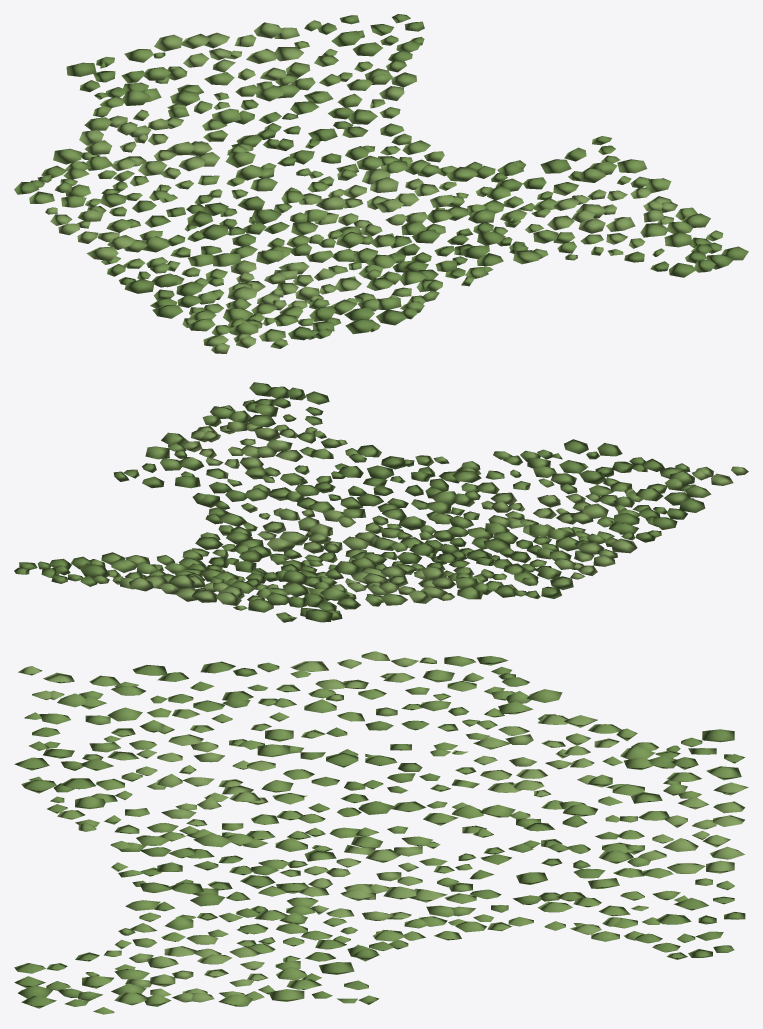
Rendered from canopy-1-4--6.glb.
The picture shows the model from 3 angles, top to bottom: view 1: azimuth 30°, elevation 25°; view 2: azimuth 150°, elevation 25°; view 3: azimuth 270°, elevation 25°; orthographic projection. The views are drawn at different scales.
Bounding box in the file's own units: 510 × 62.5 × 512.
Materials: 1 (1 with a texture image).
